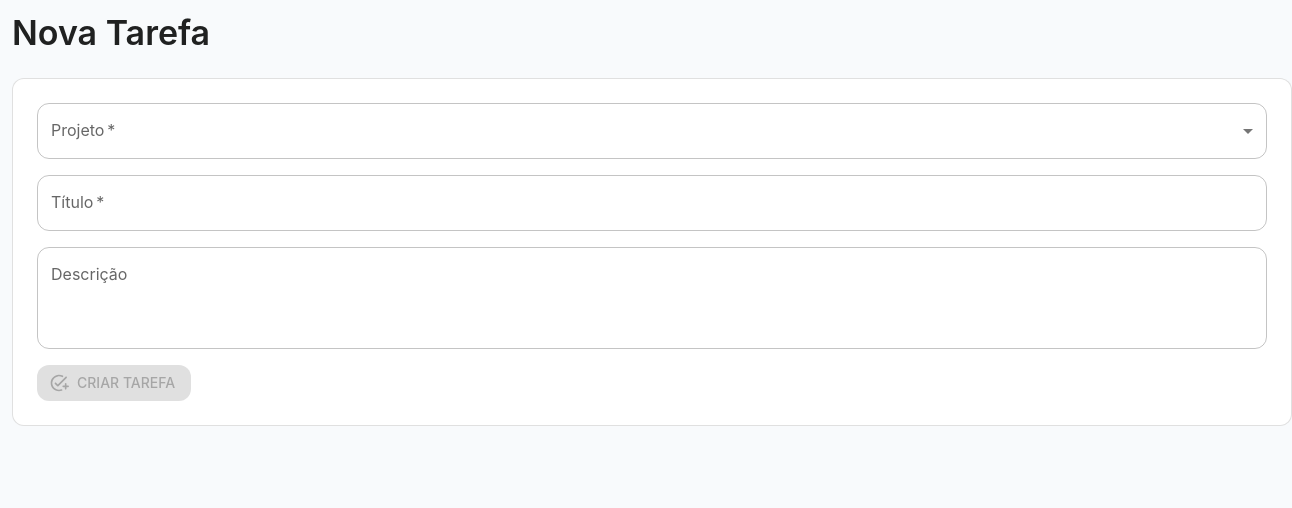
Test case: NovaTarefaScreen › limpa o formulário após sucesso
The image size is (1292, 508).
Click the dropdown at (652, 131), box [37,103,1267,159]
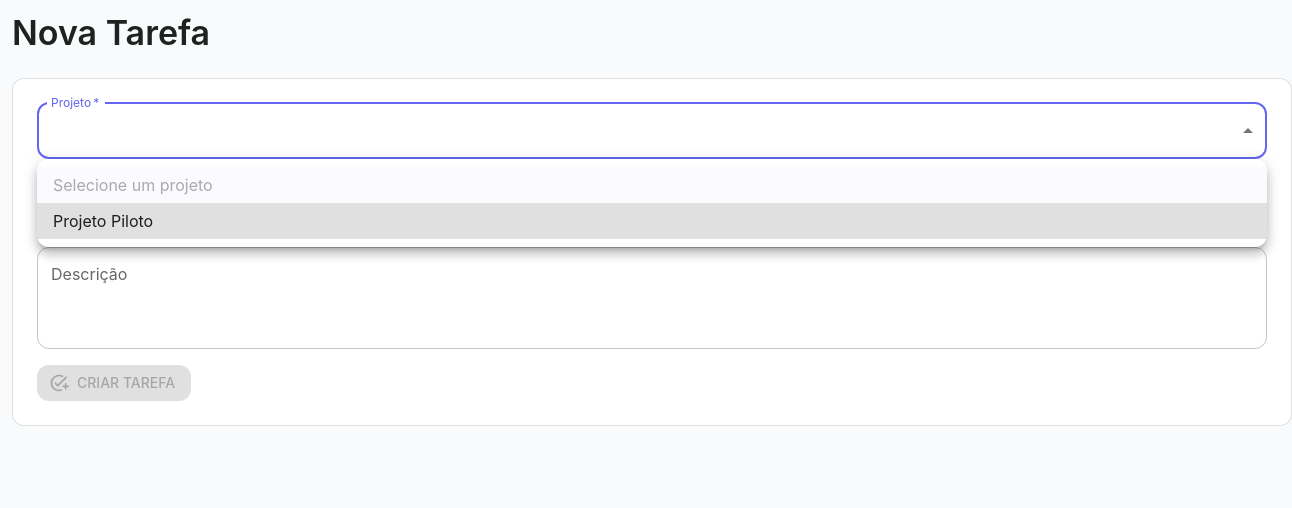
Click the option "Projeto Piloto" at (103, 221), box [37,203,1267,239]
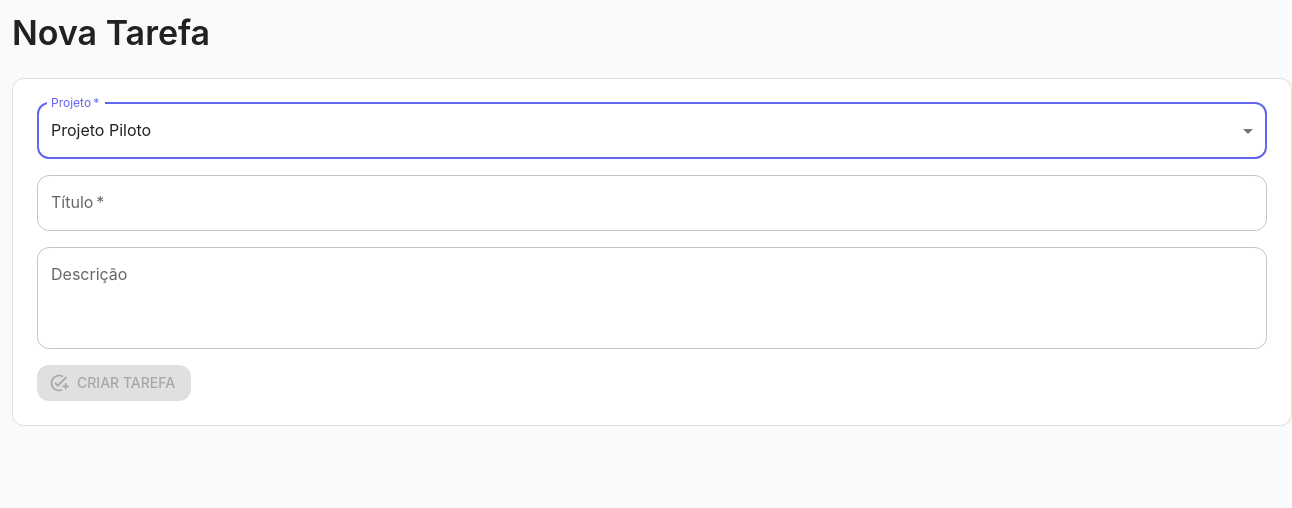
Type "Tarefa para limpar" into the field with test id "input-titulo" at (652, 203), box [37,175,1267,231]
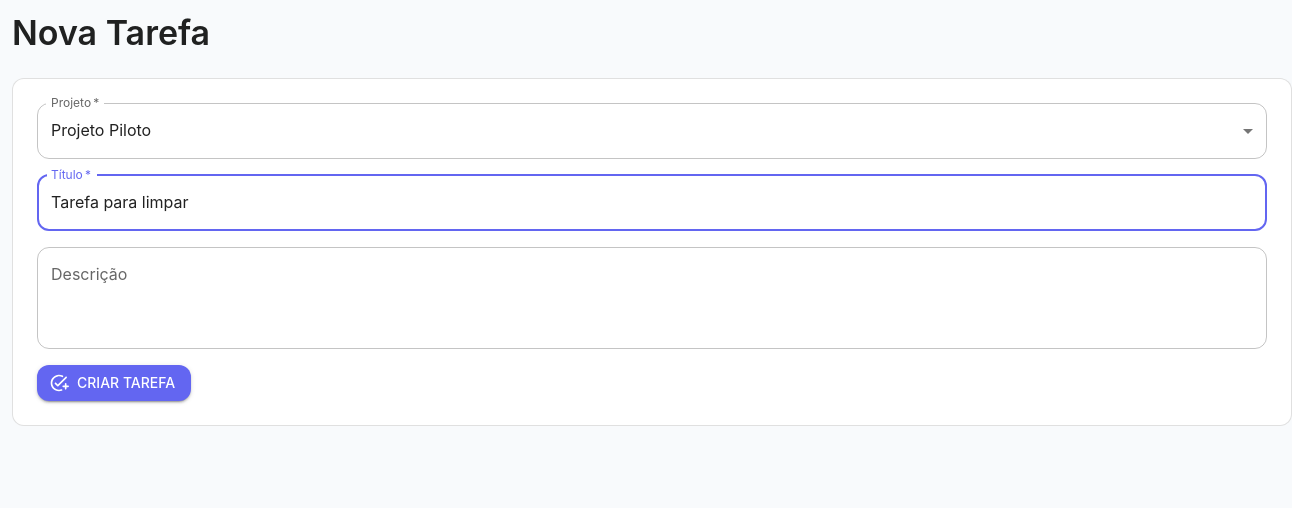
Type "Desc" into the text box with test id "input-descricao" at (652, 298), box [51,264,1253,332]
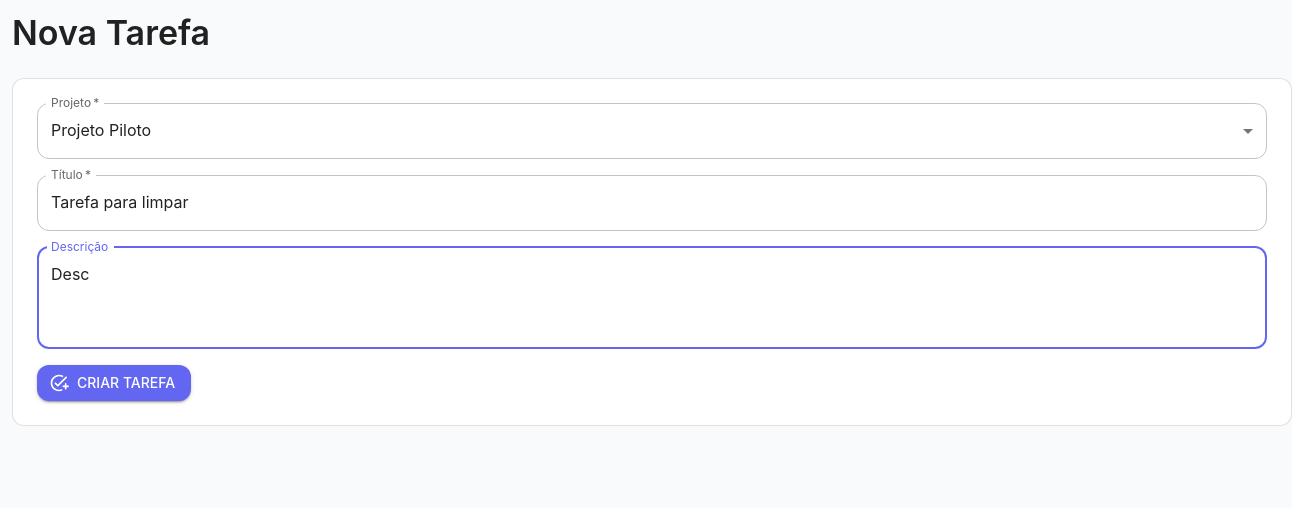
Click the button with test id "btn-enviar" at (114, 383), box [37,365,191,402]
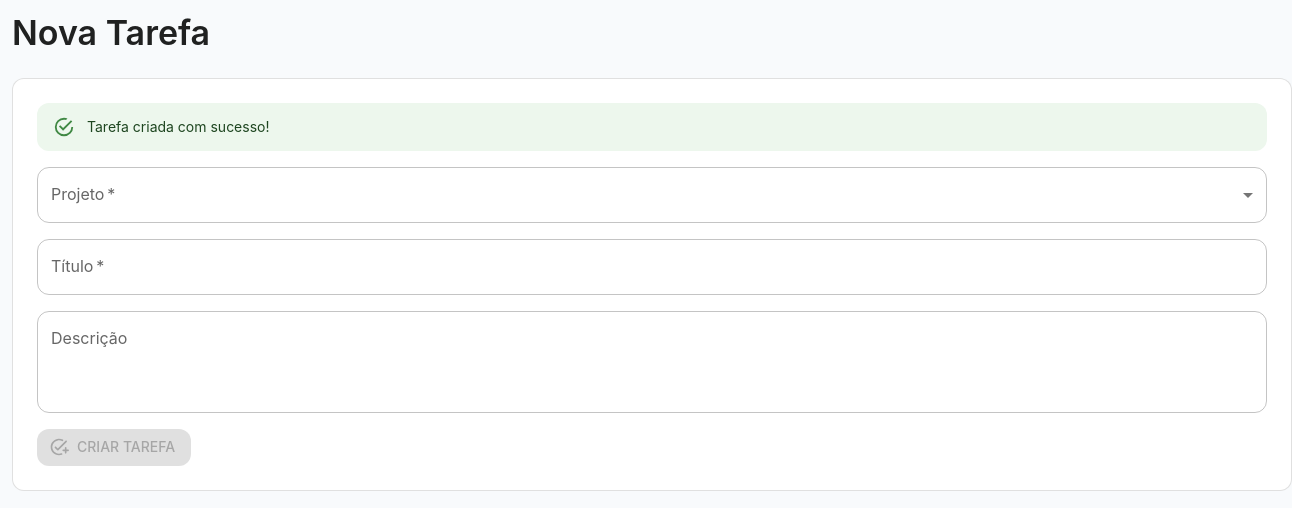
Now the message "Tarefa criada com sucesso!" is shown, box [37,103,1267,151]
Now the field with test id "input-titulo" is empty, box [37,239,1267,295]
Now the button with test id "btn-enviar" is disabled, box [37,429,191,466]
